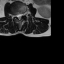CCS_normal: (18, 11, 20, 22)
LFS_normal: (22, 10, 25, 17)
LLS_normal: (20, 11, 22, 18)
RFS_normal: (14, 12, 16, 18)
RLS_normal: (16, 11, 18, 19)
